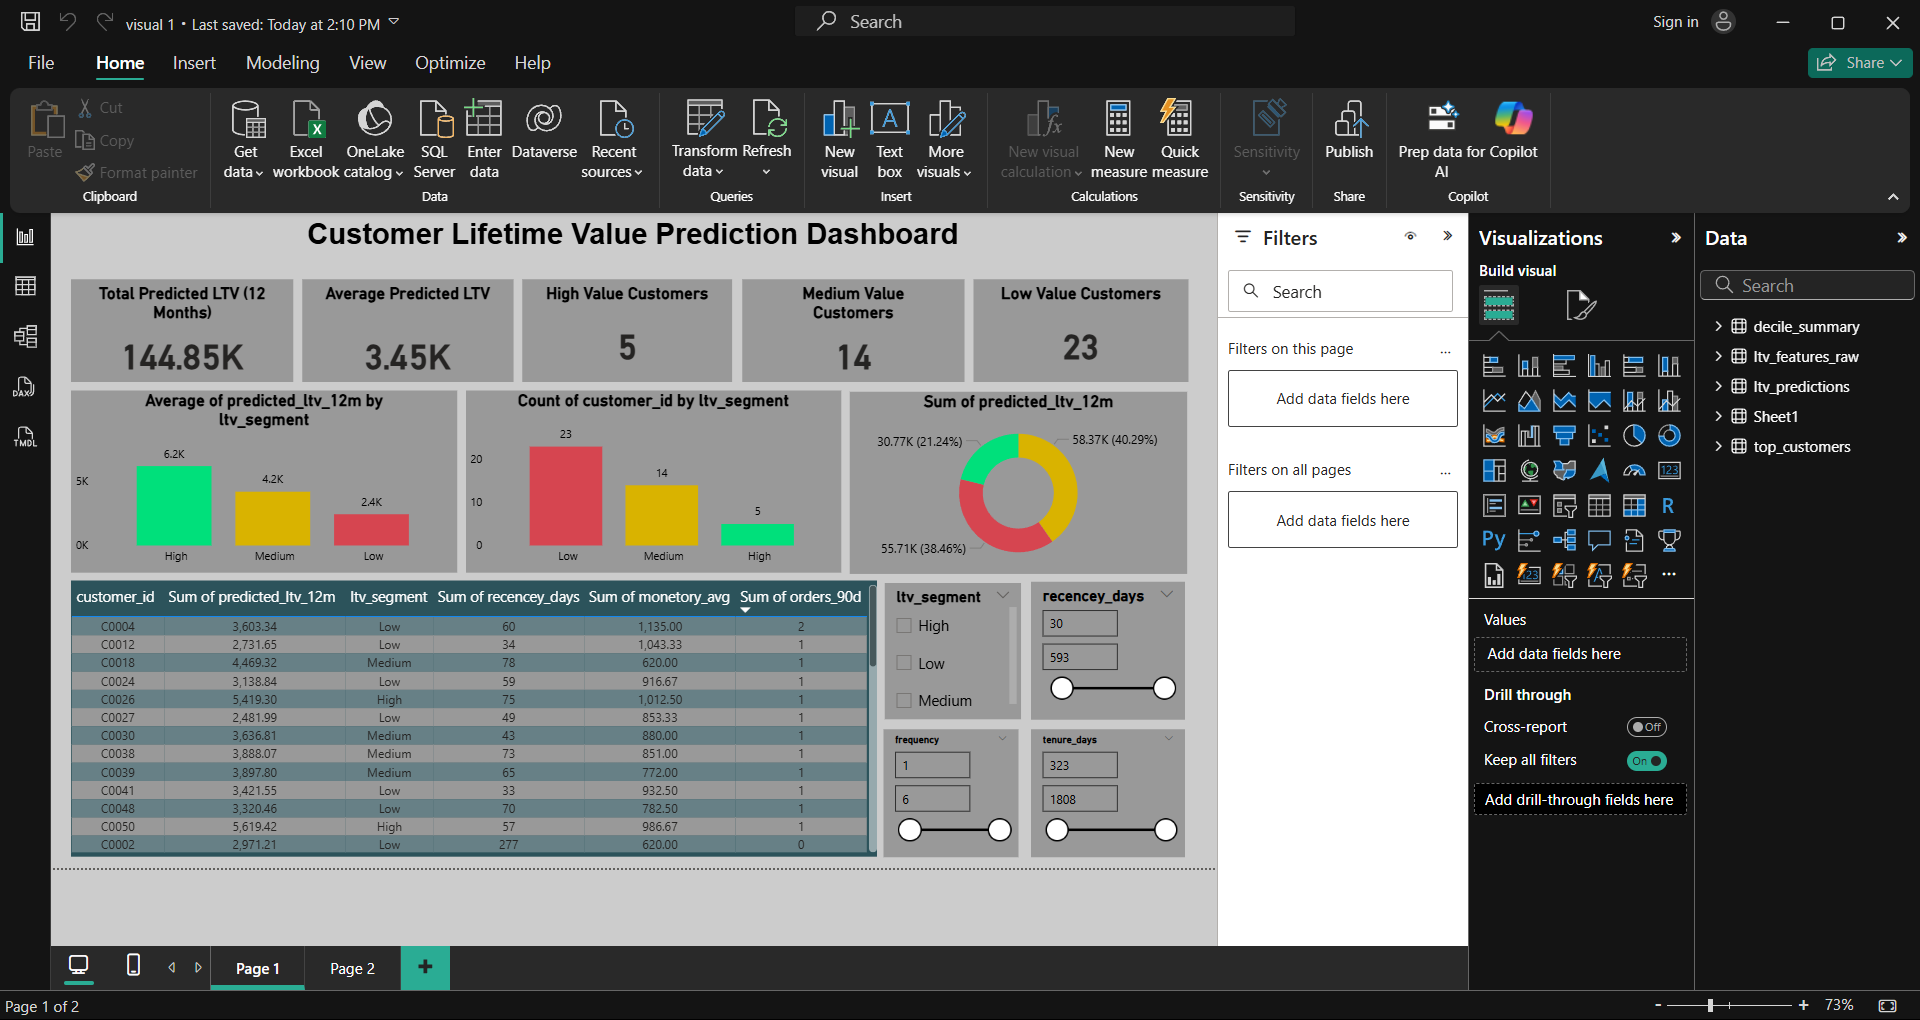

What the dashboard file says about the page in this screenshot:
{"tool":"powerbi","page":{"name":"Page 1","canvas":[1280,720],"ordinal":0},"visuals":[{"type":"card","title":"Total Predicted LTV (12 Months)","fields":{"Values":["Sum(ltv_predictions.predicted_ltv_12m)"]},"box":[22,72.7,244.3,112.5],"z":0},{"type":"card","title":"Average Predicted LTV ","fields":{"Values":["Avg(ltv_predictions.predicted_ltv_12m)"]},"box":[276,72.7,231.9,112.5],"z":1000},{"type":"card","title":"High Value Customers","fields":{"Values":["CountNonNull(ltv_predictions.customer_id)"]},"box":[518,72.7,230.5,112.5],"z":2000},{"type":"card","title":"Medium Value Customers","fields":{"Values":["CountNonNull(ltv_predictions.customer_id)"]},"box":[759,72.7,244.3,112.5],"z":3000},{"type":"card","title":"Low Value Customers","fields":{"Values":["CountNonNull(ltv_predictions.customer_id)"]},"box":[1012.7,72.7,236,112.5],"z":4000},{"type":"clusteredColumnChart","fields":{"Category":["ltv_predictions.ltv_segment"],"Y":["CountNonNull(ltv_predictions.customer_id)"]},"box":[455.6,194.9,411.7,200.3],"z":5000},{"type":"columnChart","fields":{"Category":["ltv_predictions.ltv_segment"],"Y":["Avg(ltv_predictions.predicted_ltv_12m)"]},"box":[22,194.9,424,200.3],"z":6000},{"type":"tableEx","fields":{"Values":["ltv_predictions.customer_id","Sum(ltv_predictions.predicted_ltv_12m)","ltv_predictions.ltv_segment","Sum(ltv_features_raw.recencey_days)","Sum(ltv_features_raw.monetory_avg)","Sum(ltv_features_raw.orders_90d)"]},"box":[22,403.4,885.1,303.3],"z":7000},{"type":"slicer","fields":{"Values":["ltv_predictions.ltv_segment"]},"box":[915.3,406.2,149.6,149.6],"z":8000},{"type":"slicer","fields":{"Values":["ltv_features_raw.recencey_days"]},"box":[1075.8,404.8,168.8,150.9],"z":9000},{"type":"donutChart","title":"Sum of predicted_ltv_12m ","fields":{"Y":["Sum(ltv_predictions.predicted_ltv_12m)"],"Category":["ltv_predictions.ltv_segment"]},"box":[877,196,370.5,200.3],"z":10000},{"type":"textbox","box":[163.3,0,950.9,53.5],"z":11000},{"type":"slicer","fields":{"Values":["ltv_features_raw.frequency"]},"box":[913.9,566.7,148.2,140],"z":12000},{"type":"slicer","fields":{"Values":["ltv_features_raw.tenure_days"]},"box":[1075.8,566.7,168.8,140],"z":13000}]}

Visuals, with their boxes on the page's 1280x720 design canvas (x1, y1, x2, y2). These are canvas units, not pixel positions in the 1920x1020 screenshot, which may show the page scaled, cropped or inside an application window:
"Total Predicted LTV (12 Months)" card: select_region(22, 73, 266, 185)
"Average Predicted LTV " card: select_region(276, 73, 508, 185)
"High Value Customers" card: select_region(518, 73, 748, 185)
"Medium Value Customers" card: select_region(759, 73, 1003, 185)
"Low Value Customers" card: select_region(1013, 73, 1249, 185)
clusteredColumnChart - ltv_predictions.ltv_segment x CountNonNull(ltv_predictions.customer_id): select_region(456, 195, 867, 395)
columnChart - ltv_predictions.ltv_segment x Avg(ltv_predictions.predicted_ltv_12m): select_region(22, 195, 446, 395)
tableEx - ltv_predictions.customer_id x Sum(ltv_predictions.predicted_ltv_12m): select_region(22, 403, 907, 707)
slicer - ltv_predictions.ltv_segment: select_region(915, 406, 1065, 556)
slicer - ltv_features_raw.recencey_days: select_region(1076, 405, 1245, 556)
"Sum of predicted_ltv_12m " donutChart: select_region(877, 196, 1248, 396)
textbox: select_region(163, 0, 1114, 54)
slicer - ltv_features_raw.frequency: select_region(914, 567, 1062, 707)
slicer - ltv_features_raw.tenure_days: select_region(1076, 567, 1245, 707)
